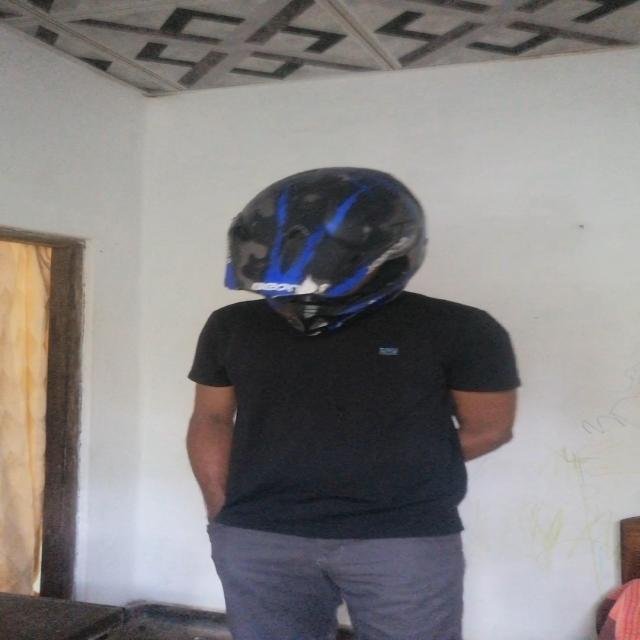Helmet_Wearer: (184, 160, 442, 328)
Person: (199, 165, 511, 640)
